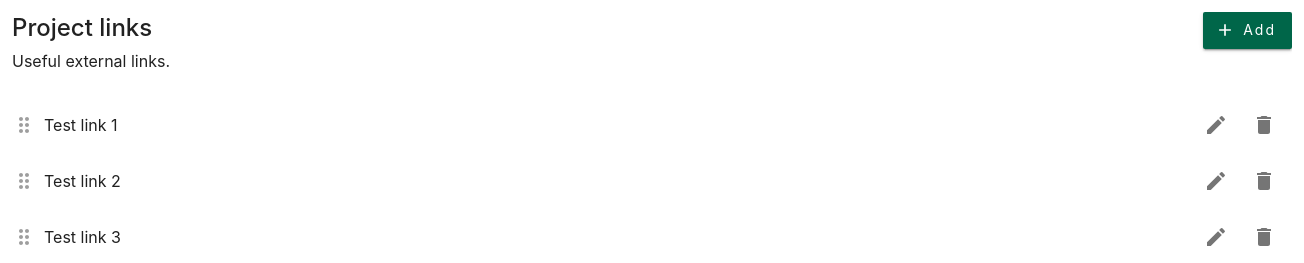
Test: can delete link
Click the 1st button named "delete".
click(1264, 124)  # box [1244, 104, 1284, 144]
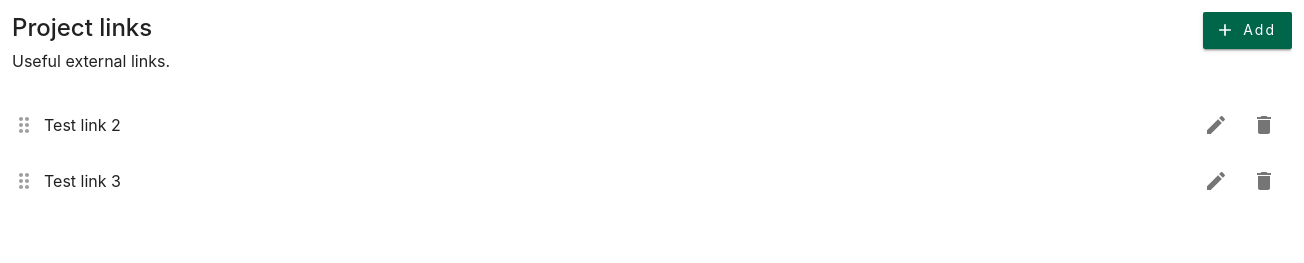
expect the number of buttons with test id "project-link-item" is 2: met, box [12, 96, 1292, 152]; [12, 152, 1292, 208]
